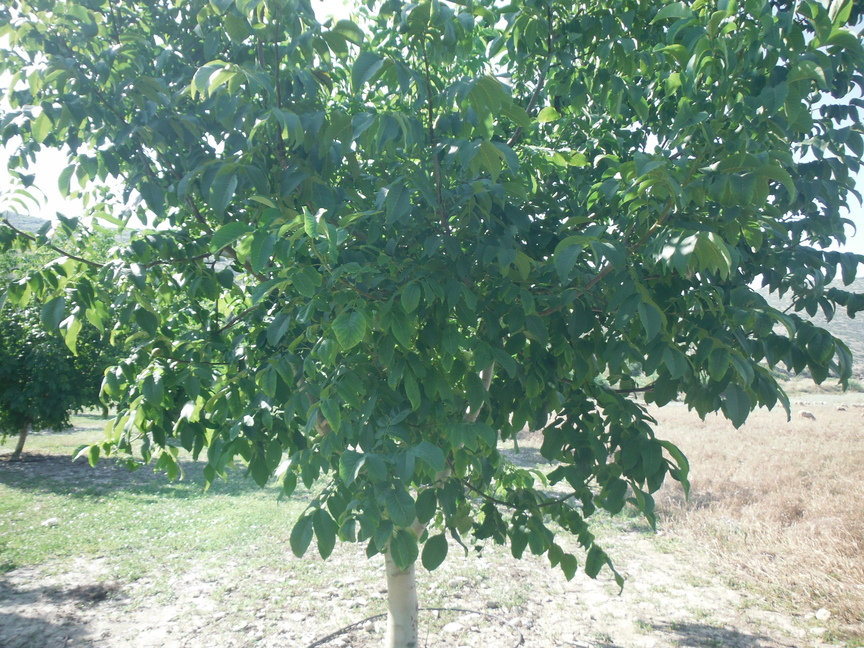walnut: (148, 344, 166, 359)
